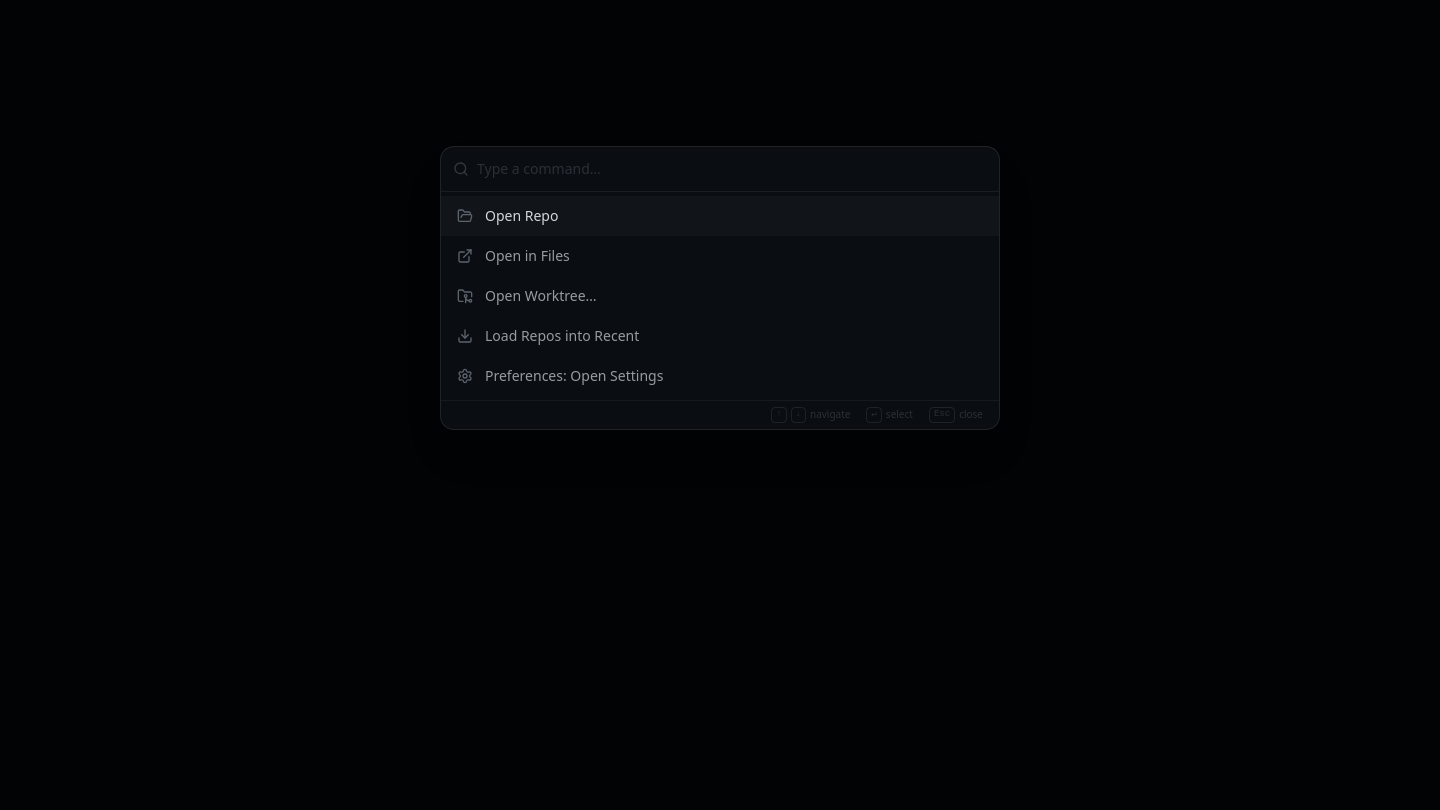
Test: CommandPalette › shows an error message when loading worktrees fails, not the empty state
Click the button "Open Worktree…".
click(541, 295)  # box x1=441 y1=276 x2=999 y2=316
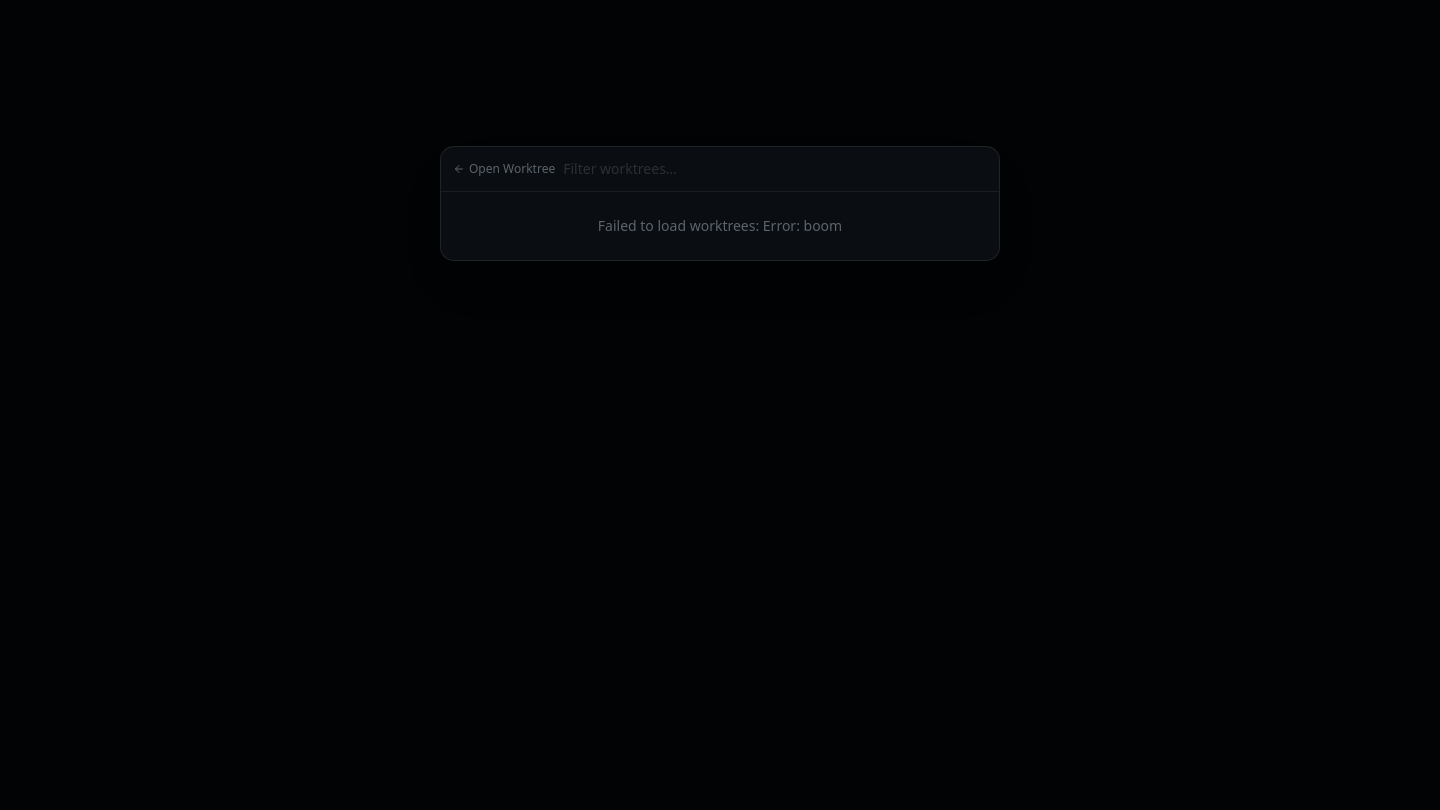
Now the text "Failed to load worktrees: Error: boom" is shown, box x1=598 y1=216 x2=842 y2=235
